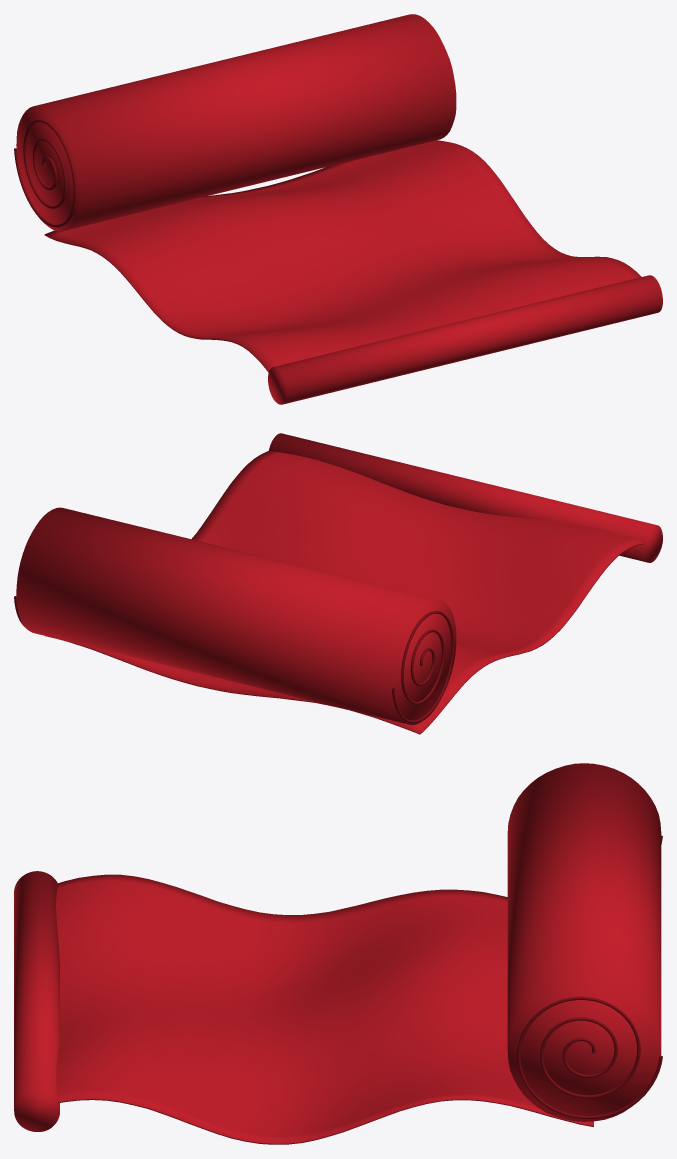
3 views of the same model, one above another, from view 1: azimuth 30°, elevation 25°; view 2: azimuth 150°, elevation 25°; view 3: azimuth 270°, elevation 25° (orthographic). The views are drawn at different scales.
Parts seen in each view (by area): view 1: TI010 / editable draped woven sheet, TI010 / rolled cloth body, TI010 / partially rolled lower edge, TI010 / visible spiral selvage; view 2: TI010 / rolled cloth body, TI010 / editable draped woven sheet, TI010 / partially rolled lower edge, TI010 / visible spiral selvage; view 3: TI010 / editable draped woven sheet, TI010 / rolled cloth body, TI010 / partially rolled lower edge, TI010 / visible spiral selvage.001.
Boxes of the visible parts, x1,y1,x2,y2 form: TI010 / editable draped woven sheet: (44,140,641,372); TI010 / rolled cloth body: (16,14,456,231); TI010 / partially rolled lower edge: (268,275,662,404); TI010 / visible spiral selvage: (14,119,76,227); TI010 / rolled cloth body: (16,507,456,724); TI010 / editable draped woven sheet: (45,451,644,734); TI010 / partially rolled lower edge: (269,433,662,562); TI010 / visible spiral selvage: (392,610,454,723); TI010 / editable draped woven sheet: (56,874,593,1144); TI010 / rolled cloth body: (507,763,661,1121); TI010 / partially rolled lower edge: (14,871,59,1131); TI010 / visible spiral selvage.001: (517,996,662,1118).
Size of the model in its own units: 2.73 by 0.9329 by 3.38.
